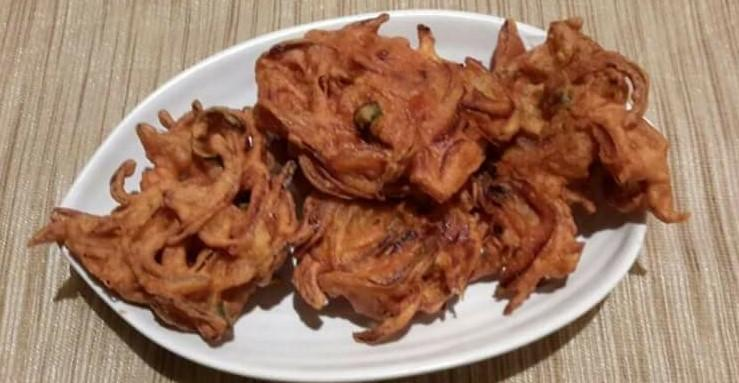OnionPakoda: (26, 13, 691, 348)
